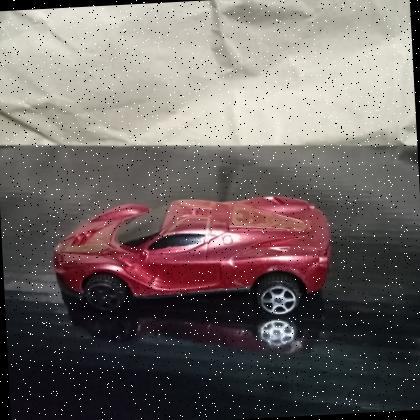Car: (42, 179, 341, 332)
